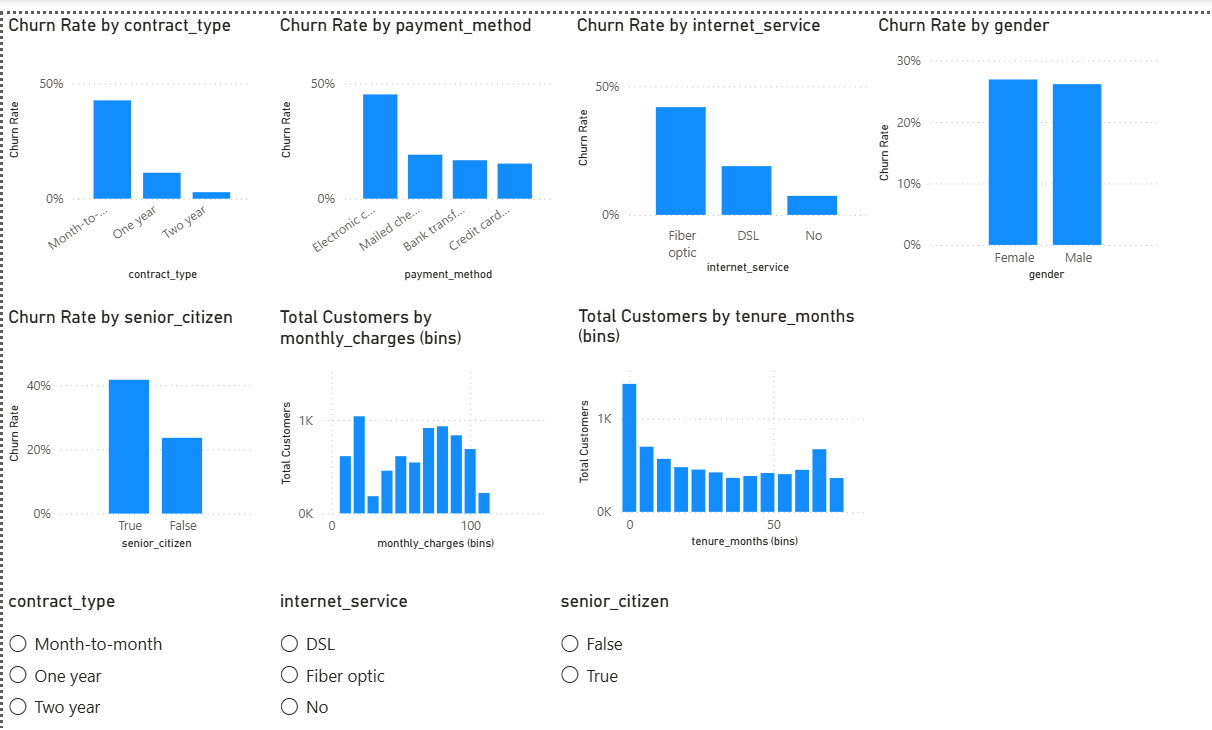

The page's visual inventory and layout, read from the dashboard file:
{"tool":"powerbi","page":{"name":"Customer Insights","canvas":[1255,1000],"ordinal":1},"visuals":[{"type":"clusteredColumnChart","fields":{"Category":["customer_dashboard.contract_type"],"Y":["customer_dashboard.Churn Rate"]},"box":[0,0,241.9,258.9],"z":0},{"type":"clusteredColumnChart","fields":{"Category":["customer_dashboard.internet_service"],"Y":["customer_dashboard.Churn Rate"]},"box":[542,0,285.4,251.3],"z":1000},{"type":"clusteredColumnChart","fields":{"Y":["customer_dashboard.Churn Rate"],"Category":["customer_dashboard.senior_citizen"]},"box":[0,278,241.9,236.2],"z":2000},{"type":"clusteredColumnChart","fields":{"Y":["customer_dashboard.Churn Rate"],"Category":["customer_dashboard.payment_method"]},"box":[258,0,268.3,258.9],"z":3000},{"type":"clusteredColumnChart","fields":{"Y":["customer_dashboard.Churn Rate"],"Category":["customer_dashboard.gender"]},"box":[828,0,279.7,258.9],"z":4000},{"type":"clusteredColumnChart","fields":{"Category":["customer_dashboard.monthly_charges (bins)"],"Y":["customer_dashboard.Total Customers"]},"box":[258,278,268,236],"z":5000},{"type":"clusteredColumnChart","fields":{"Category":["customer_dashboard.tenure_months (bins)"],"Y":["customer_dashboard.Total Customers"]},"box":[526,278,285,236],"z":6000},{"type":"listSlicer","fields":{"Values":["customer_dashboard.contract_type"]},"box":[0,548,258,220],"z":7000},{"type":"listSlicer","fields":{"Values":["customer_dashboard.internet_service"]},"box":[258,548,258,220],"z":8000},{"type":"listSlicer","fields":{"Values":["customer_dashboard.senior_citizen"]},"box":[526,548,258,220],"z":9000}]}

Visuals, with their boxes on the page's 1255x1000 design canvas (x1, y1, x2, y2). These are canvas units, not pixel positions in the 1212x730 screenshot, which may show the page scaled, cropped or inside an application window:
clusteredColumnChart - customer_dashboard.contract_type x customer_dashboard.Churn Rate: {"x1": 0, "y1": 0, "x2": 242, "y2": 259}
clusteredColumnChart - customer_dashboard.internet_service x customer_dashboard.Churn Rate: {"x1": 542, "y1": 0, "x2": 827, "y2": 251}
clusteredColumnChart - customer_dashboard.Churn Rate x customer_dashboard.senior_citizen: {"x1": 0, "y1": 278, "x2": 242, "y2": 514}
clusteredColumnChart - customer_dashboard.Churn Rate x customer_dashboard.payment_method: {"x1": 258, "y1": 0, "x2": 526, "y2": 259}
clusteredColumnChart - customer_dashboard.Churn Rate x customer_dashboard.gender: {"x1": 828, "y1": 0, "x2": 1108, "y2": 259}
clusteredColumnChart - customer_dashboard.monthly_charges (bins) x customer_dashboard.Total Customers: {"x1": 258, "y1": 278, "x2": 526, "y2": 514}
clusteredColumnChart - customer_dashboard.tenure_months (bins) x customer_dashboard.Total Customers: {"x1": 526, "y1": 278, "x2": 811, "y2": 514}
listSlicer - customer_dashboard.contract_type: {"x1": 0, "y1": 548, "x2": 258, "y2": 768}
listSlicer - customer_dashboard.internet_service: {"x1": 258, "y1": 548, "x2": 516, "y2": 768}
listSlicer - customer_dashboard.senior_citizen: {"x1": 526, "y1": 548, "x2": 784, "y2": 768}
